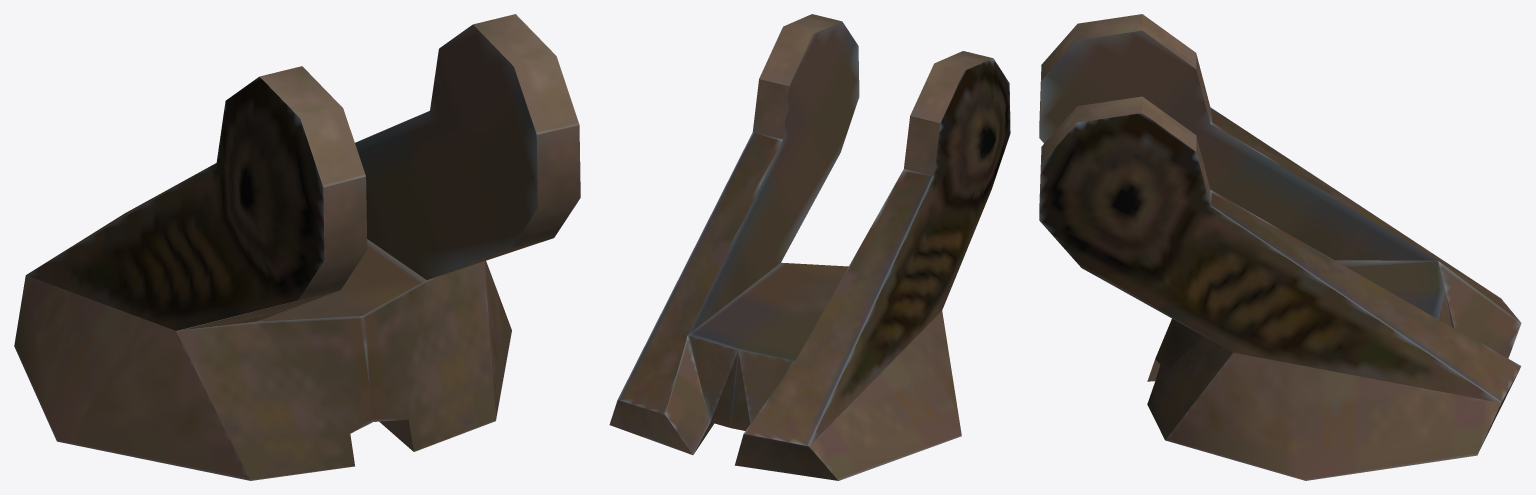
File: pkt01.fbx
3 views of the same model, side by side, from view 1: azimuth 30°, elevation 25°; view 2: azimuth 150°, elevation 25°; view 3: azimuth 270°, elevation 25° (orthographic). The views are drawn at different scales.
Parts seen in each view (by area): view 1: polySurface110; view 2: polySurface110; view 3: polySurface110.
Part boxes in pixels (bbox=[...]): polySurface110: bbox=[14, 14, 580, 480]; polySurface110: bbox=[609, 14, 1010, 480]; polySurface110: bbox=[1039, 14, 1521, 480].
Size of the model in its own units: 0.711 by 0.6213 by 0.8237.
